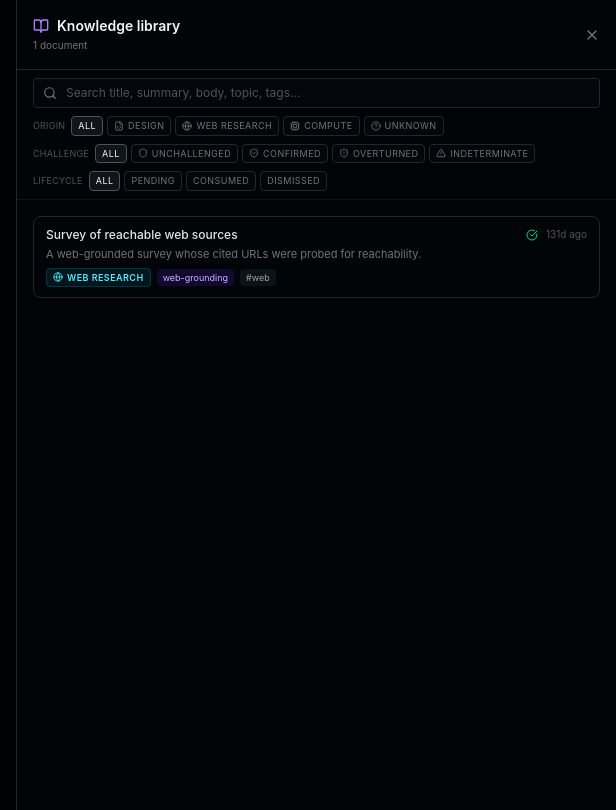
Test: KnowledgeBrowser — viewable-media error fallback sanitizes citation hrefs › does not render a javascript: citation ref as a clickable link in the error fallback
Click the button that starts with "Survey of reachable web sources" at (316,257), box [33,216,600,298]
Wait 50 ms
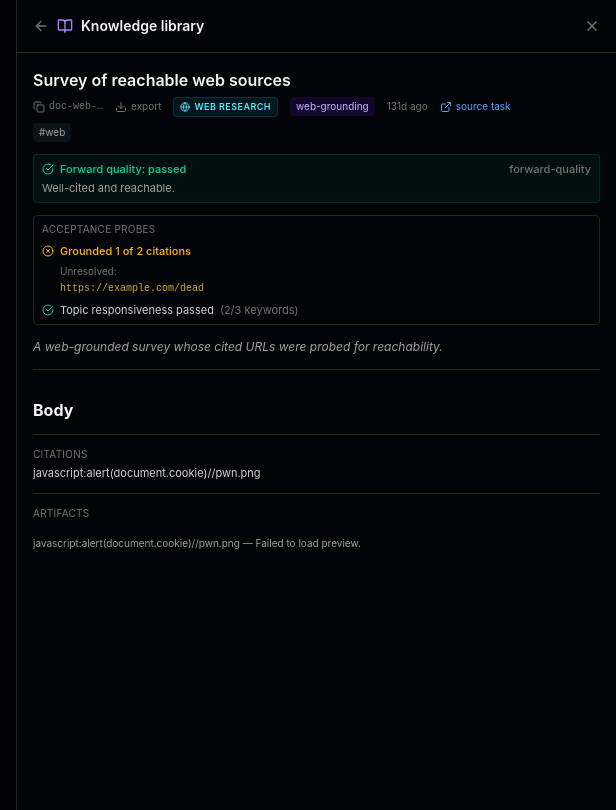
Now the text "Failed to load preview." is shown, box [256,537,361,549]
